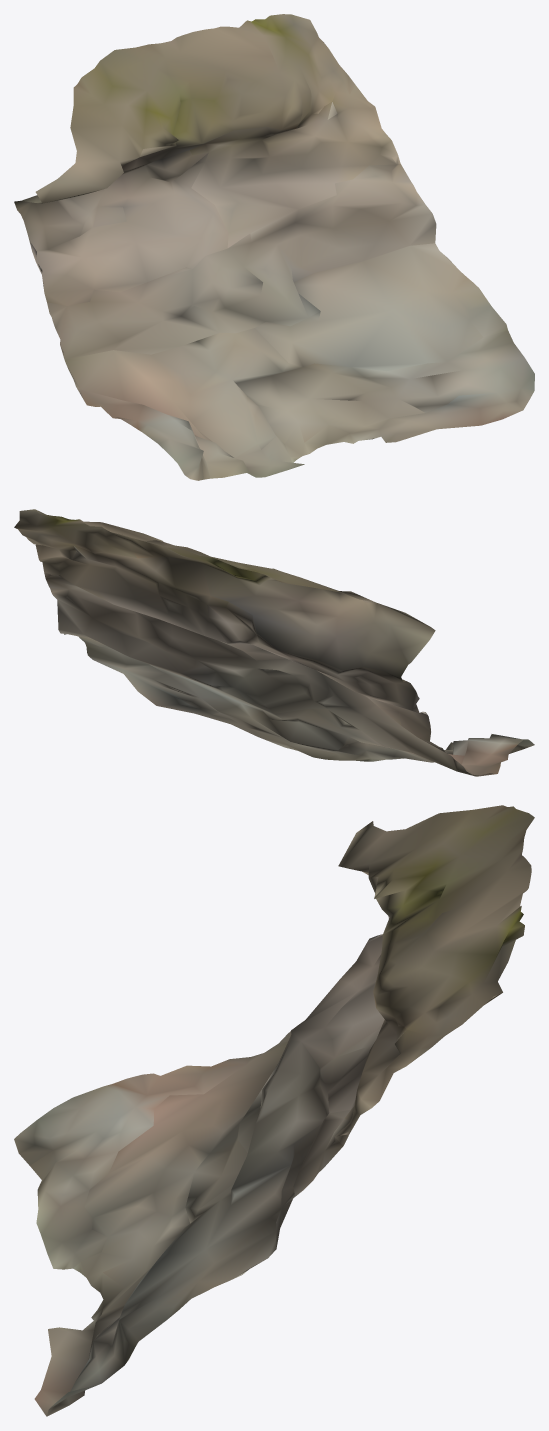
File: rock-face.glb
3 renders of one model, top to bottom at view 1: azimuth 30°, elevation 25°; view 2: azimuth 150°, elevation 25°; view 3: azimuth 270°, elevation 25°, orthographic. The views are drawn at different scales.
Parts seen in each view (by area): view 1: rock-face; view 2: rock-face; view 3: rock-face.
Boxes of the visible parts, box(x1,y1,x2,y2) form: rock-face: box(14, 14, 534, 480); rock-face: box(14, 509, 534, 776); rock-face: box(14, 805, 534, 1416).
Size of the model in its own units: 4.93 by 3.58 by 3.83.
